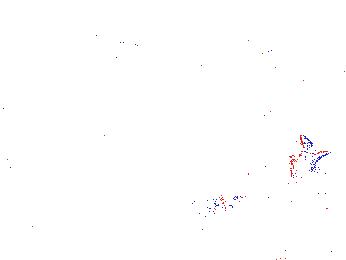flame jellyfish: (162, 161, 243, 233), (284, 133, 343, 214), (63, 156, 145, 212)
